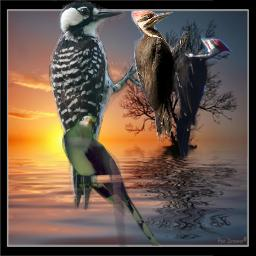Cuckoo: (62, 114, 166, 248)
Woodpecker: (46, 0, 152, 211), (149, 34, 233, 158), (131, 10, 190, 143)
